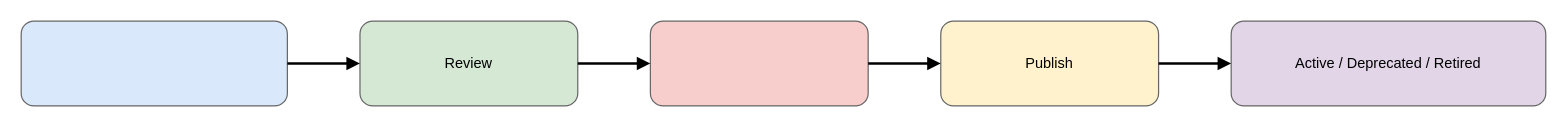
The diagram is 1567 pixels wide and 127 high, and some of its shapes have lost their labels. Each missing label, with the centre of its shape:
Approval: the point at 758,63
Capability Proposal: the point at 153,63
